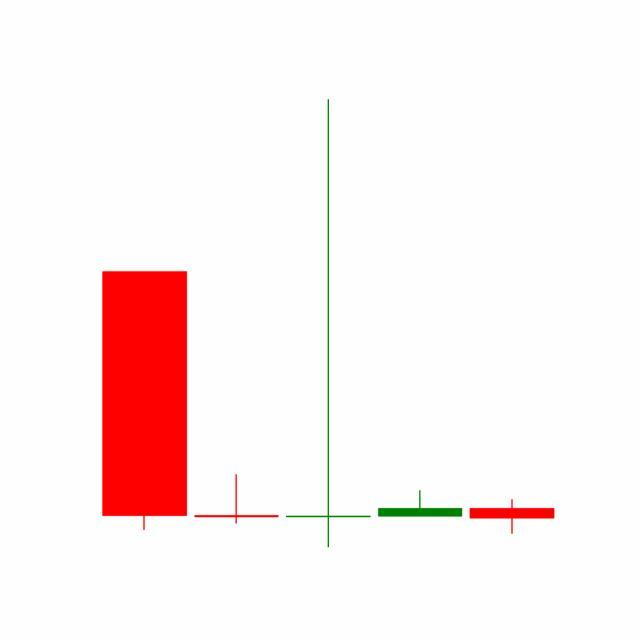Hammer: (466, 498, 559, 535)
